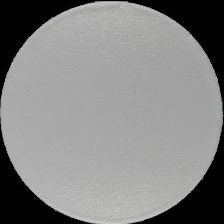53808-0683: (0, 0, 224, 224)
